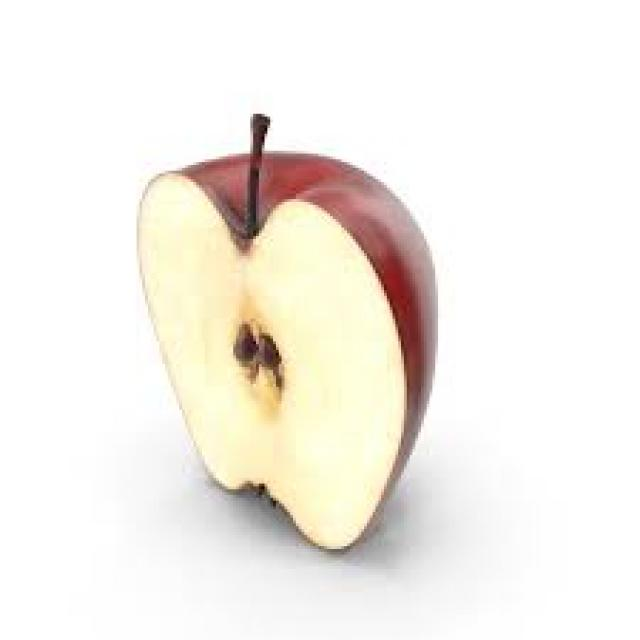Apple: (133, 152, 435, 557)
